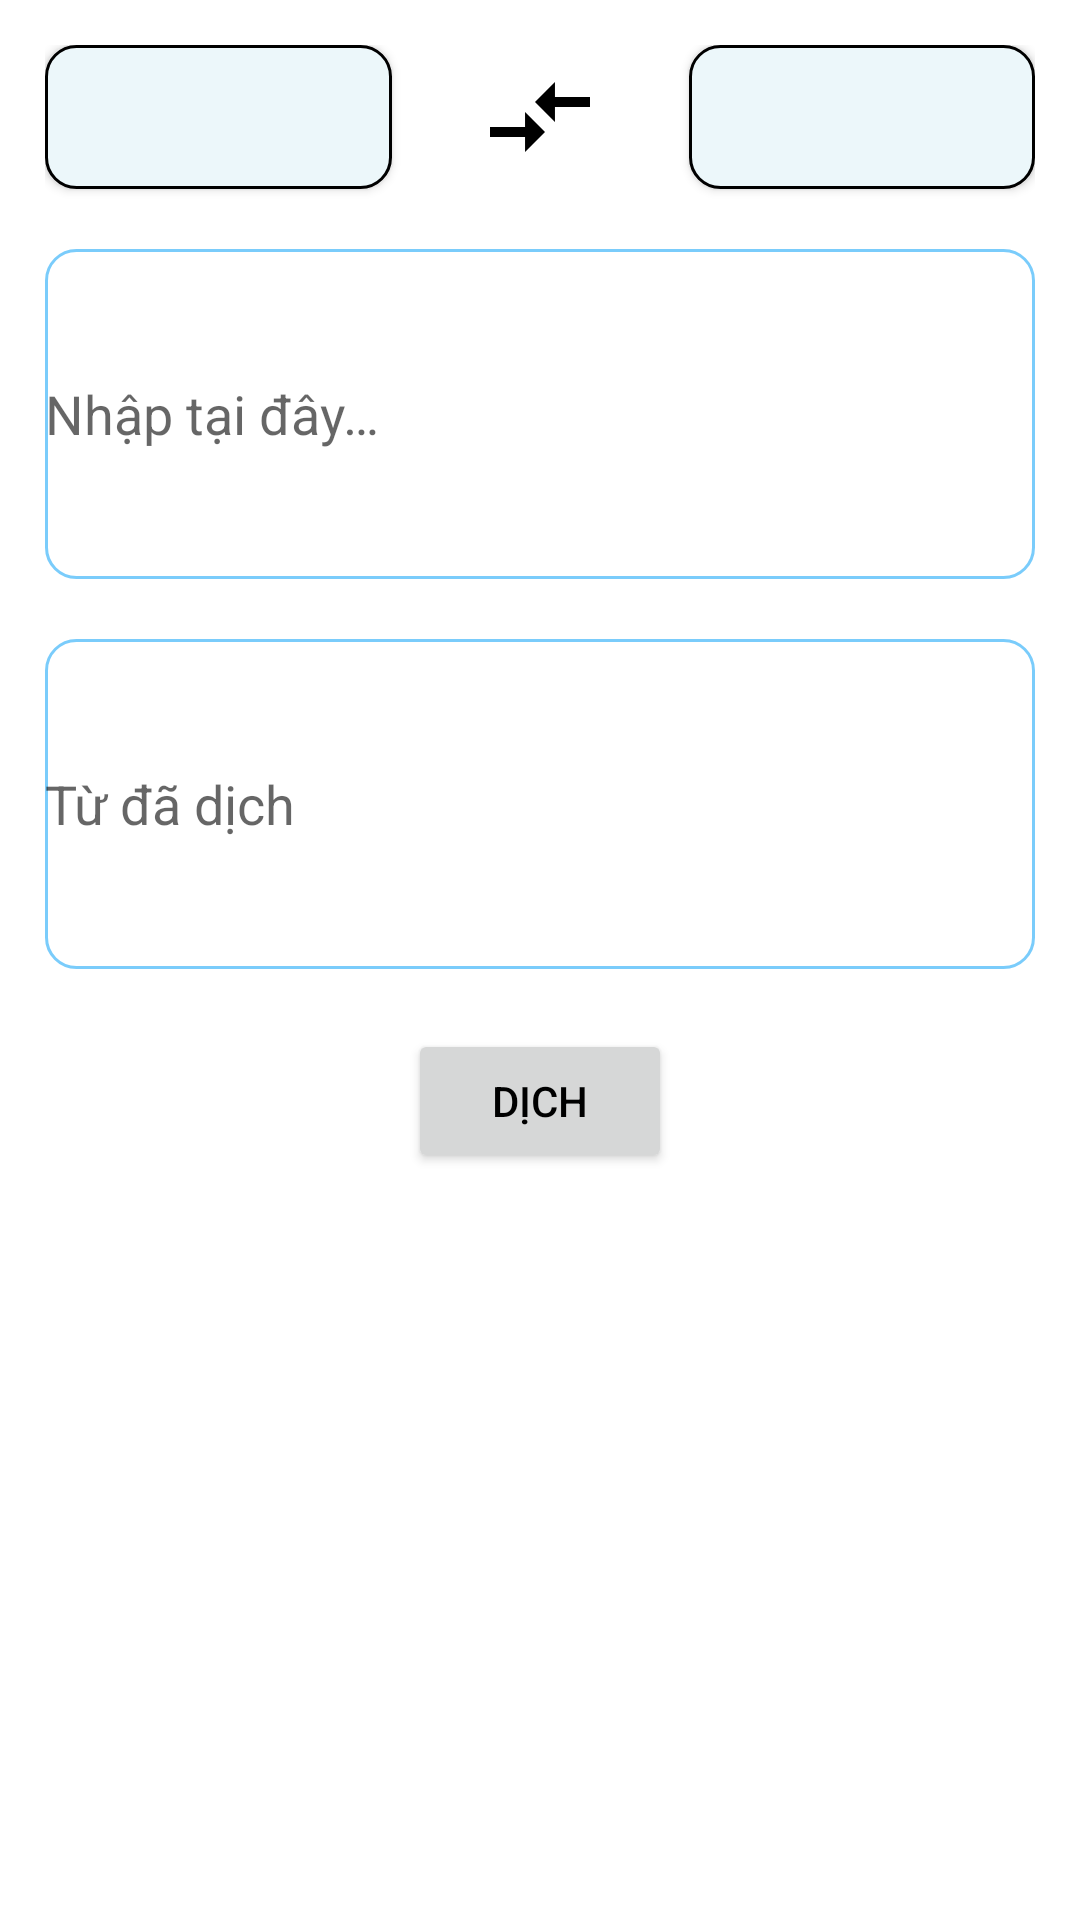

Where to tap for icons on this 1080x1920 app screen, as [x,y]:
compare arrows: [540,117]
